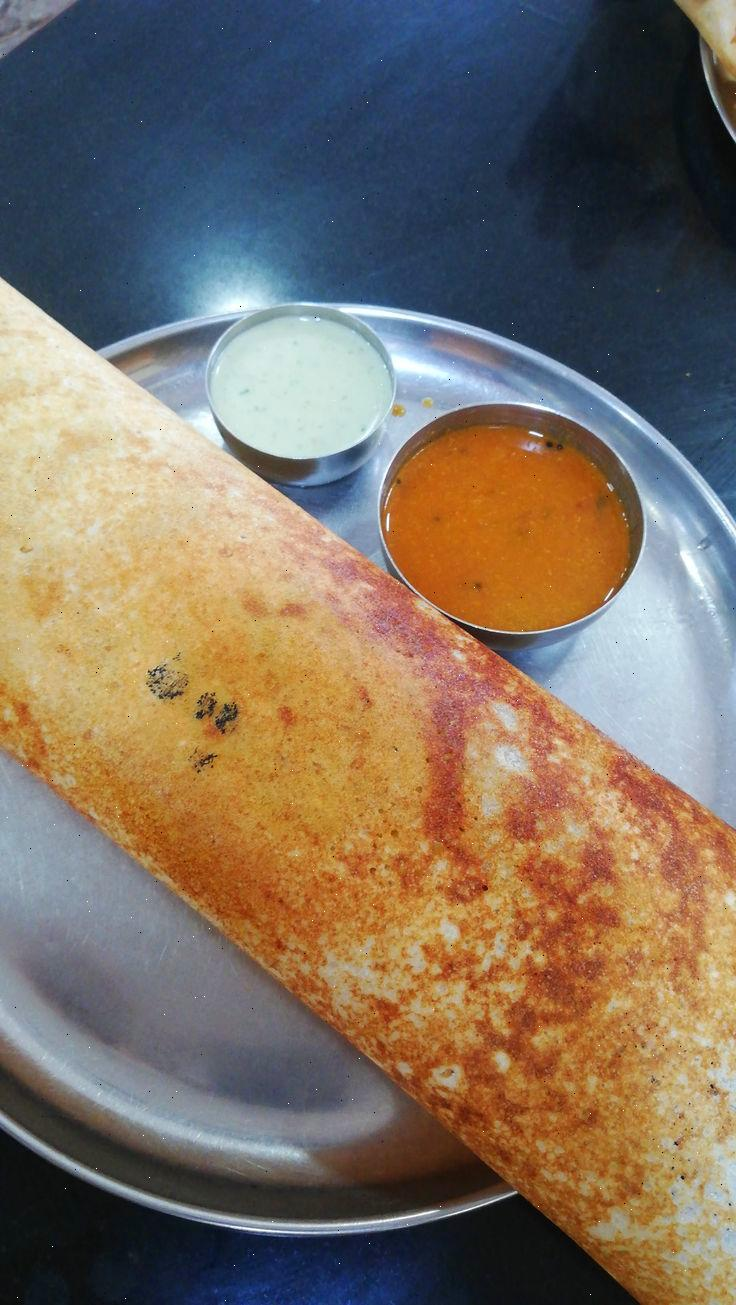dosa: (0, 322, 717, 1305)
